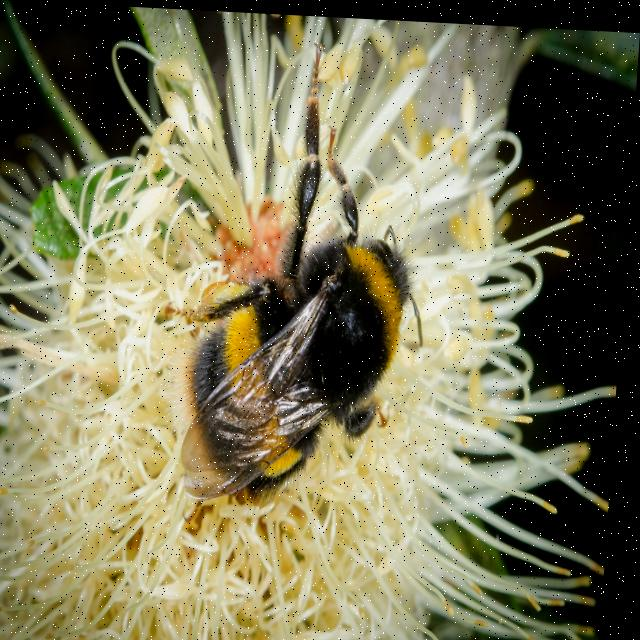Apis-mellifera-scutellata: (156, 24, 444, 537)
